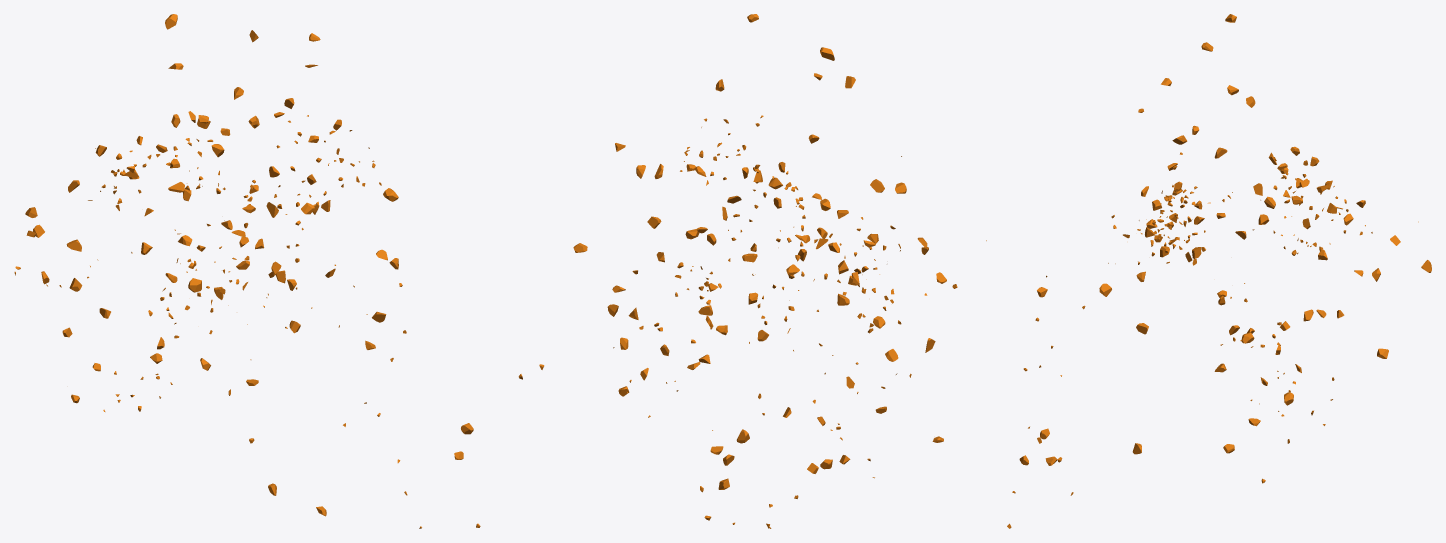
The model's file is Explode_Cube.f0027.glb.
3 views of the same model, side by side, from view 1: azimuth 30°, elevation 25°; view 2: azimuth 150°, elevation 25°; view 3: azimuth 270°, elevation 25° (orthographic). The views are drawn at different scales.
Size of the model in its own units: 14.89 by 16.78 by 15.71.
